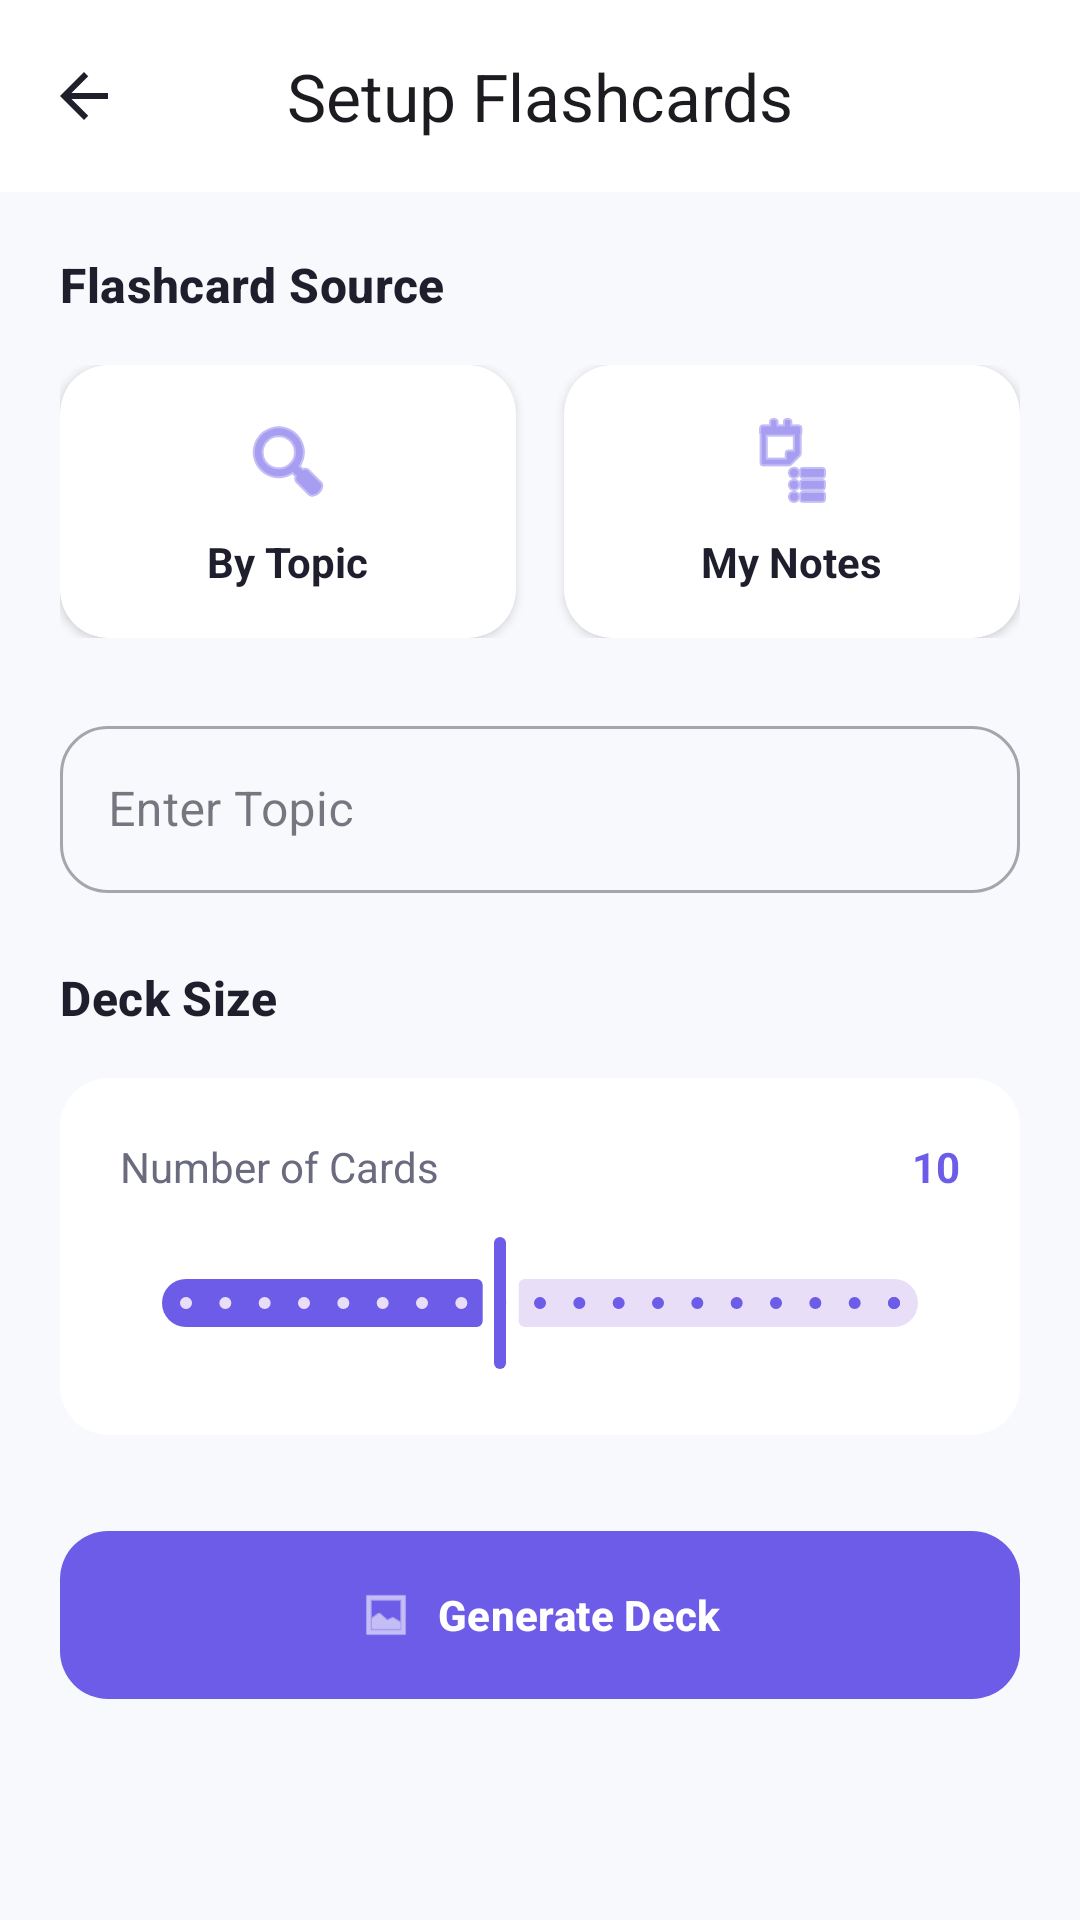

Named icons in this screenshot (1080w x 1920h) and their bounding boxes, (x1, y1, x2, y2):
agenda: (759, 418, 826, 503)
search: (253, 426, 323, 497)
